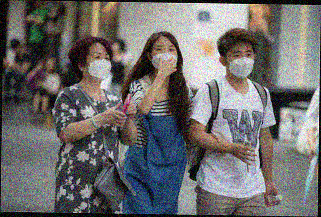with_mask: (227, 48, 255, 79), (86, 50, 112, 82), (152, 42, 179, 72)
